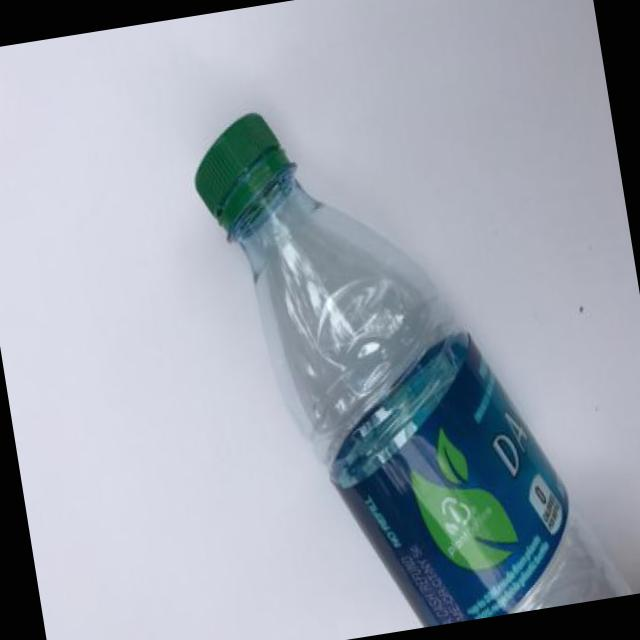Recycle: (178, 62, 635, 640)
